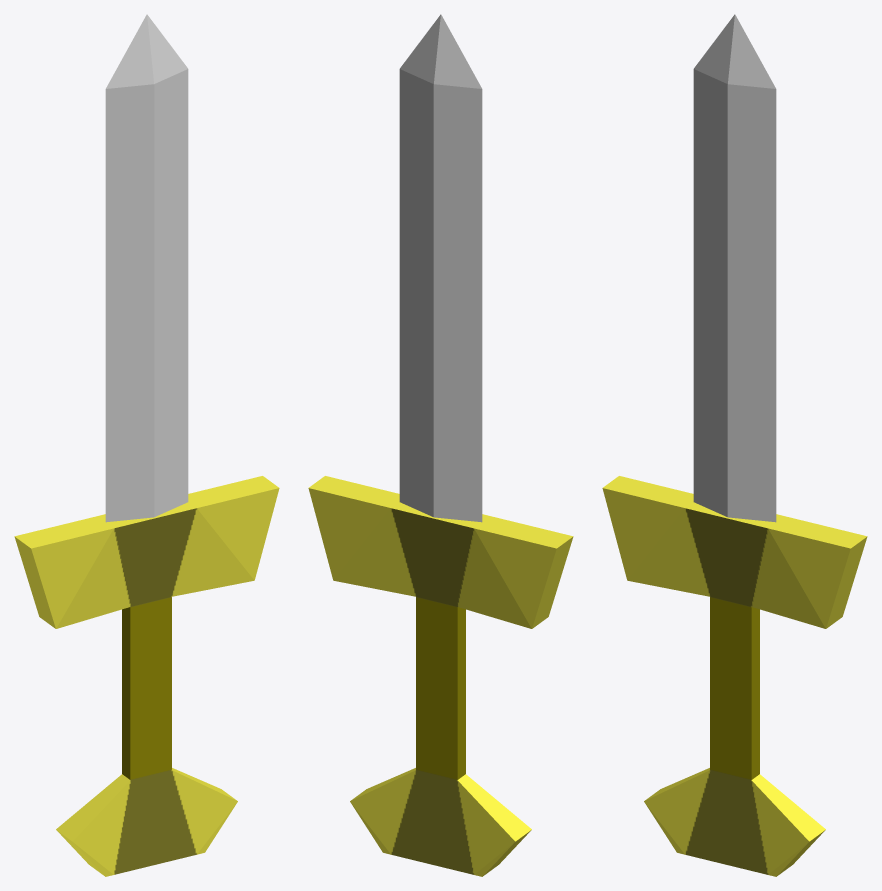
File: Sword.dae
3 renders of one model, left to right at view 1: azimuth 30°, elevation 25°; view 2: azimuth 150°, elevation 25°; view 3: azimuth 330°, elevation 25°, orthographic.
Visible parts, largest first — view 1: Handle, Cube; view 2: Handle, Cube; view 3: Handle, Cube.
Part boxes in pixels (x1=…): Handle: x1=14, y1=476, x2=279, y2=876; Cube: x1=105, y1=14, x2=188, y2=522; Handle: x1=308, y1=476, x2=573, y2=876; Cube: x1=399, y1=14, x2=482, y2=522; Handle: x1=602, y1=476, x2=867, y2=876; Cube: x1=693, y1=14, x2=776, y2=522.
Size of the model in its own units: 3 by 0.35 by 9.75.
